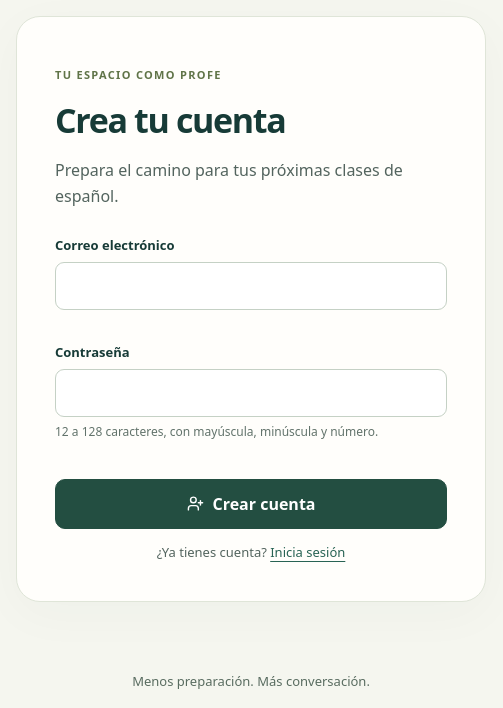
shows validation before sending a registration
Click the button "Crear cuenta": (251, 504) [55,479,447,529]
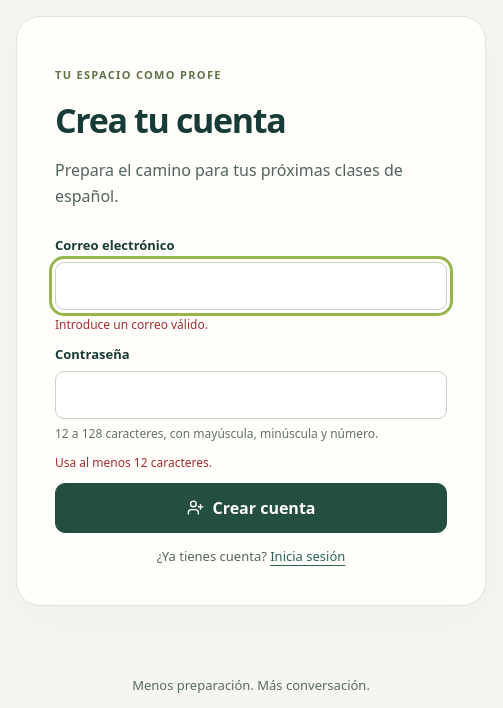
Expected: the text "Introduce un correo válido." is shown, [55,316,208,333]
Expected: the text "Usa al menos 12 caracteres." is shown, [55,454,212,471]
